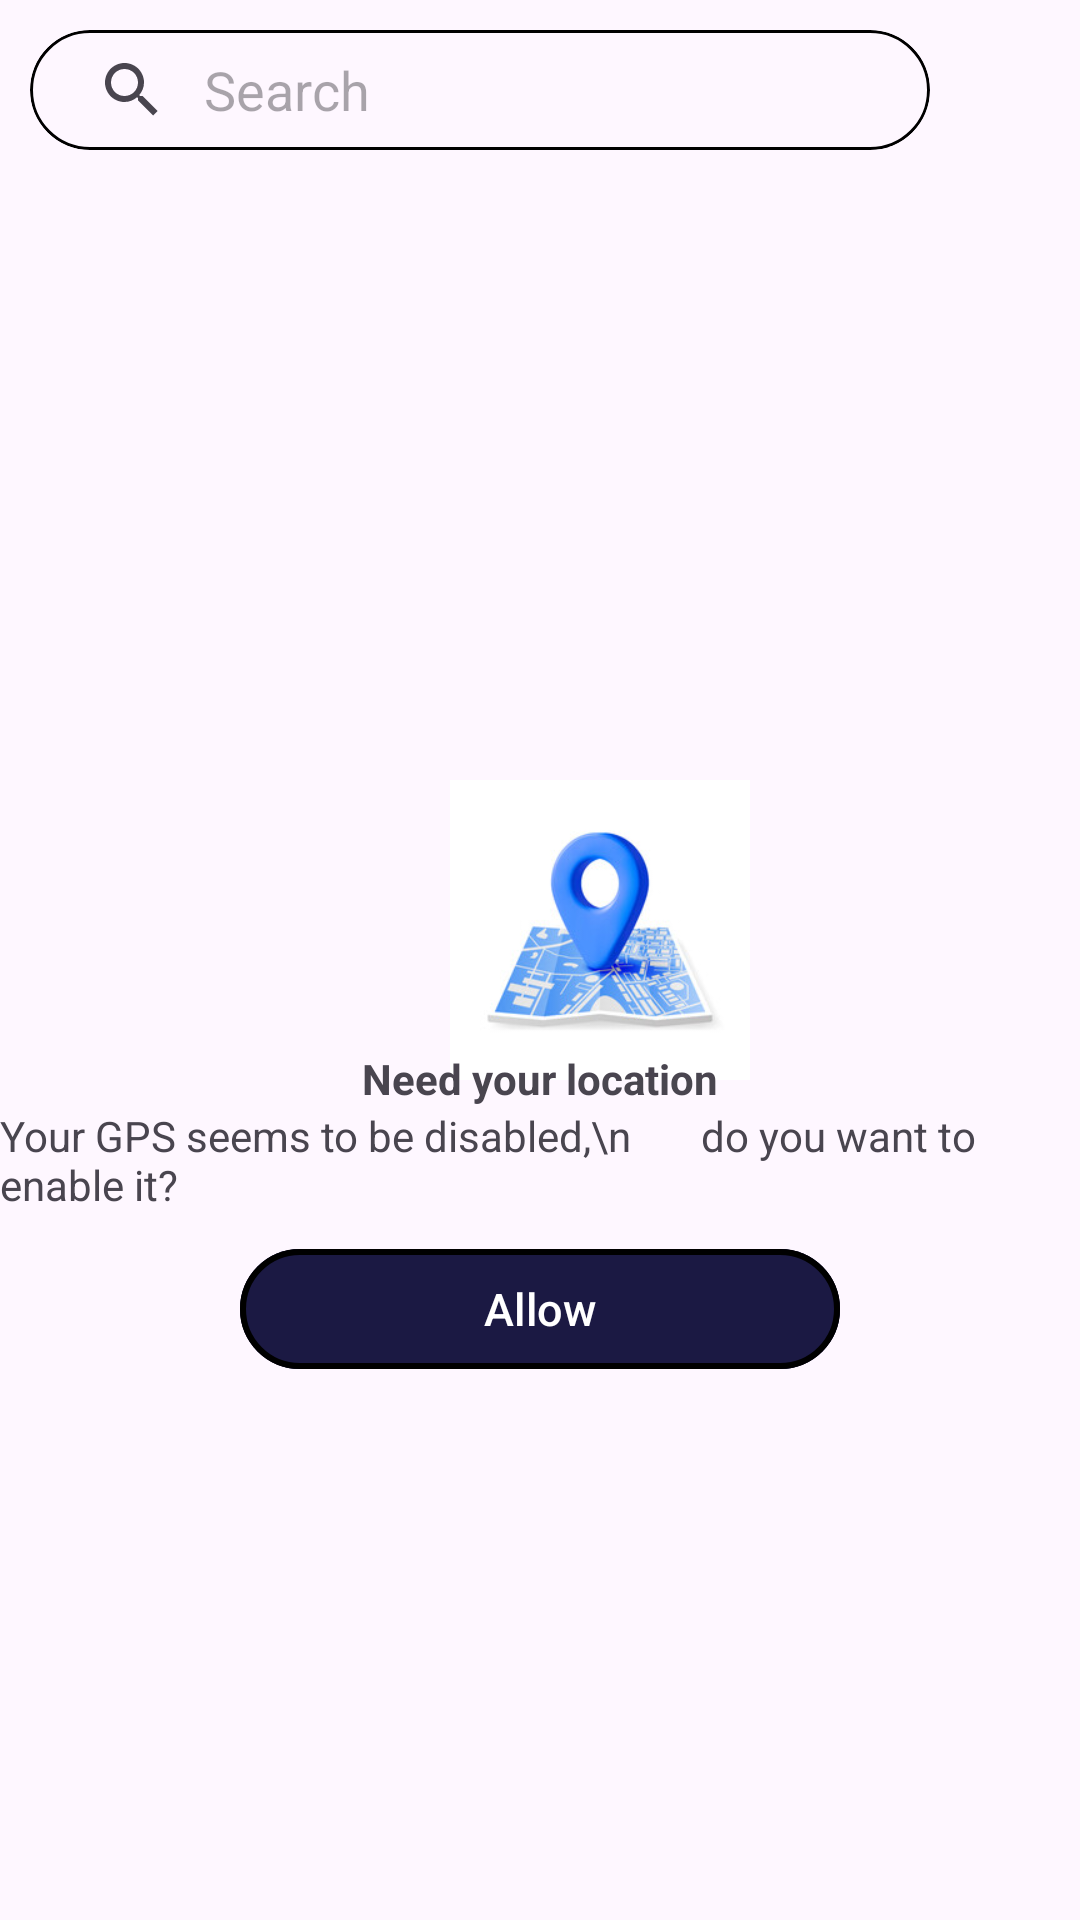

Icons on this 1080*1920 Android screen, each with the point to tap as point (x, y):
map: point (600, 930)
